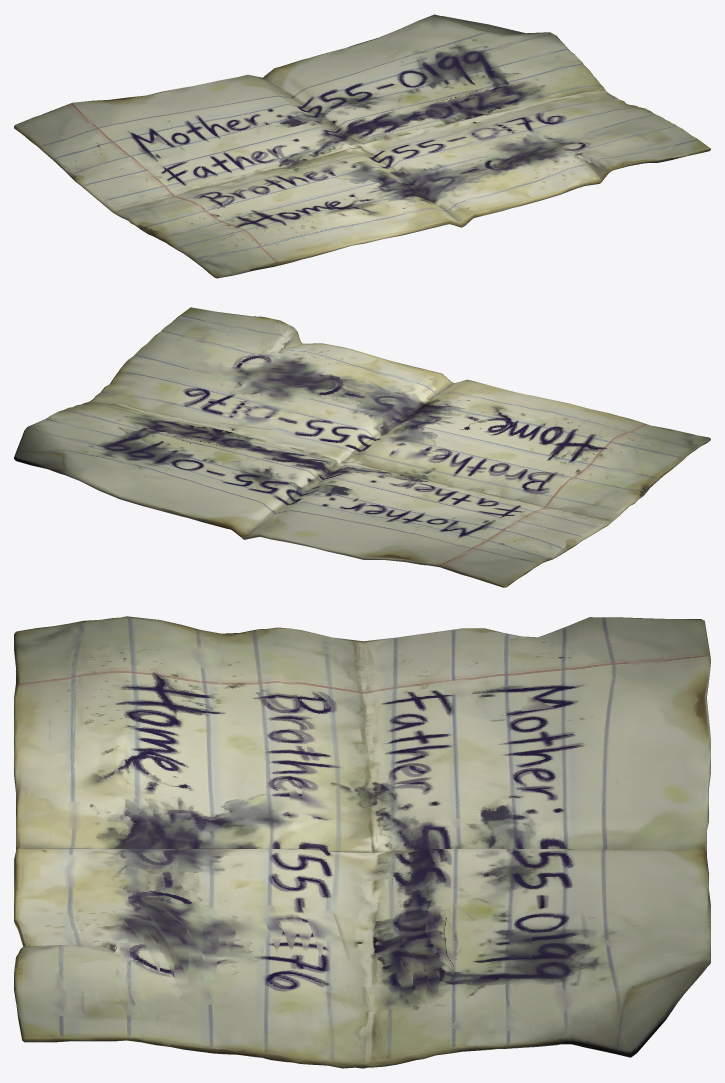
Rendered from Meshy_AI_Family_Contacts_0313125640_texture.fbx.
3 views of the same model, one above another, from view 1: azimuth 30°, elevation 25°; view 2: azimuth 150°, elevation 25°; view 3: azimuth 270°, elevation 25° (orthographic). The views are drawn at different scales.
Parts seen in each view (by area): view 1: Mesh_0; view 2: Mesh_0; view 3: Mesh_0.
Boxes of the visible parts, <box> form: Mesh_0: <box>14,14,710,278</box>; Mesh_0: <box>14,307,710,587</box>; Mesh_0: <box>14,616,710,1068</box>.
Size of the model in its own units: 191 by 9.78 by 133.
Materials: 1 (1 with a texture image).
